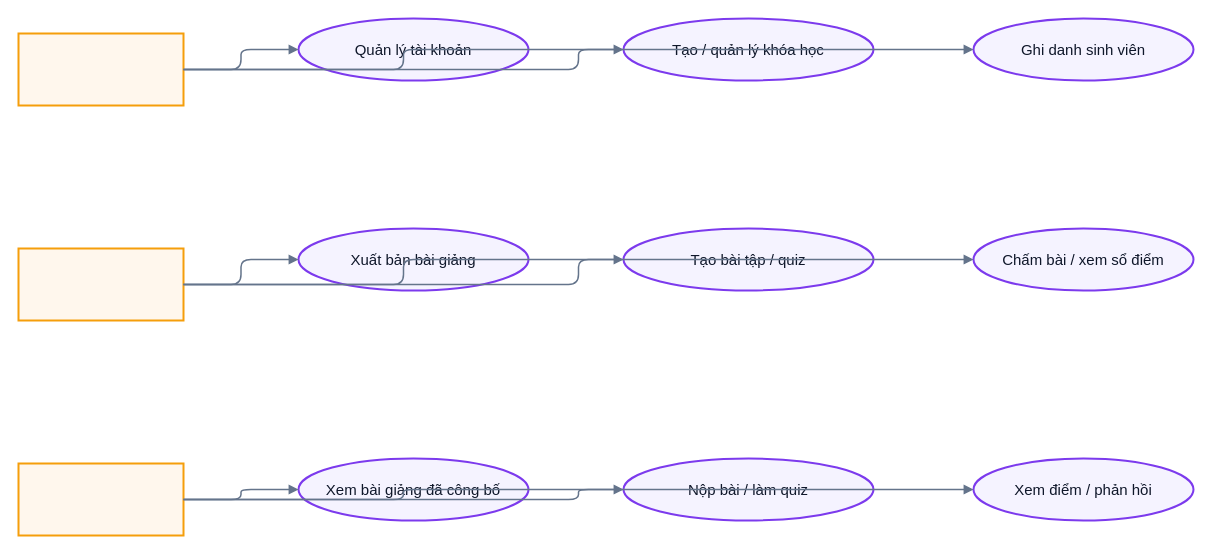
Image size: 1211x553. Some labels were removed from this diagram. Here are the shapes that lost their labels. From the top down, the centre of each, then its label:
At (x=100, y=69): "ADMIN".
At (x=100, y=284): "GIẢNG VIÊN".
At (x=100, y=499): "SINH VIÊN".
